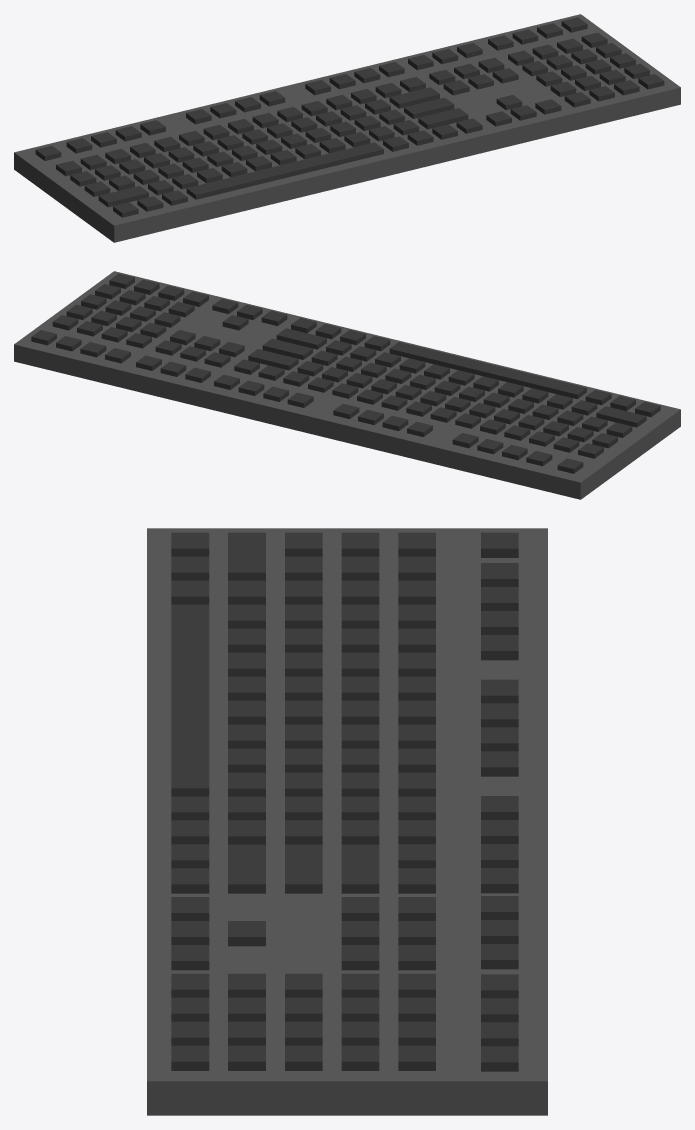
Rendered from PC_Keyboard_01.fbx.
3 views of the same model, one above another, from view 1: azimuth 30°, elevation 25°; view 2: azimuth 150°, elevation 25°; view 3: azimuth 270°, elevation 25° (orthographic). The views are drawn at different scales.
Visible parts, largest first — view 1: PC_Keyboard_01; view 2: PC_Keyboard_01; view 3: PC_Keyboard_01.
Boxes of the visible parts, x1,y1,x2,y2 form: PC_Keyboard_01: (14,14,680,242); PC_Keyboard_01: (14,271,680,499); PC_Keyboard_01: (147,528,547,1115).
Bounding box in the file's own units: 41.44 × 1.52 × 12.69.
